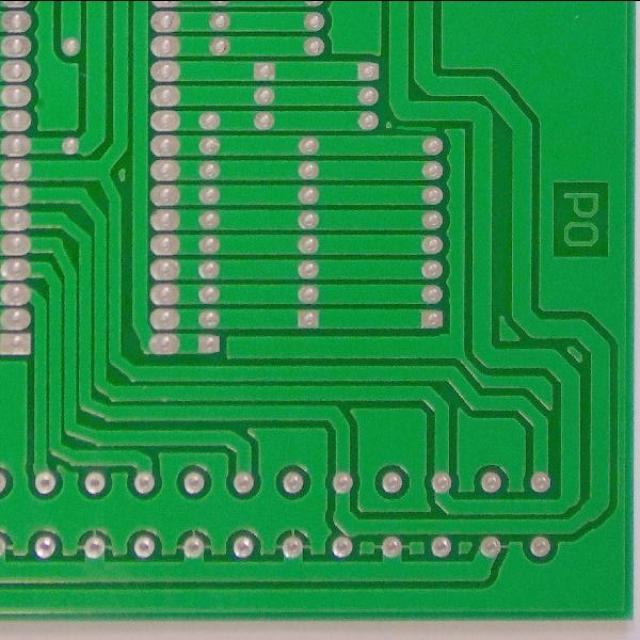Spurious_Cooper: (394, 123, 440, 133)
